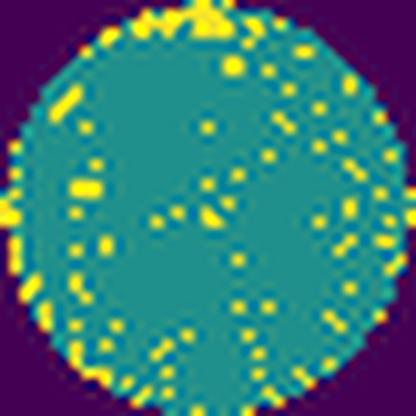Edge-Loc: (126, 0, 240, 46)
